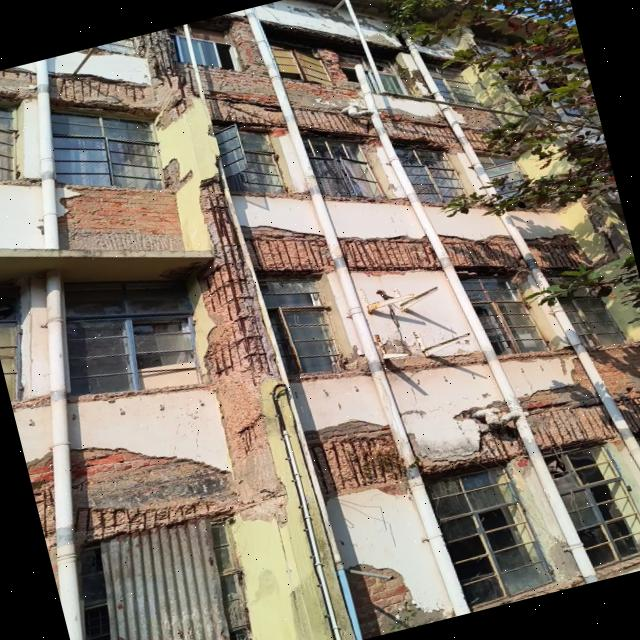Incomplete Plaster Work: (264, 0, 356, 37), (358, 17, 402, 49)
Scaling: (454, 106, 495, 129)
Spalling: (199, 176, 275, 472), (73, 492, 247, 539), (307, 420, 406, 494), (417, 425, 524, 477), (49, 73, 158, 120), (529, 402, 615, 451), (529, 405, 616, 452), (475, 576, 584, 611), (292, 101, 377, 143), (207, 90, 285, 132), (381, 111, 460, 152), (135, 28, 176, 79), (472, 434, 521, 463), (0, 67, 36, 105), (596, 556, 640, 580), (619, 395, 640, 432), (620, 396, 640, 432), (467, 127, 484, 155), (0, 178, 38, 187)
exposed brickwork: (60, 186, 183, 253), (346, 563, 442, 638), (67, 446, 232, 483), (206, 20, 276, 107), (271, 45, 356, 107), (246, 226, 331, 275), (248, 227, 330, 275), (341, 236, 439, 271), (444, 235, 524, 276), (342, 238, 435, 271), (441, 235, 515, 273), (527, 234, 585, 275), (26, 451, 54, 485), (548, 239, 572, 267)
